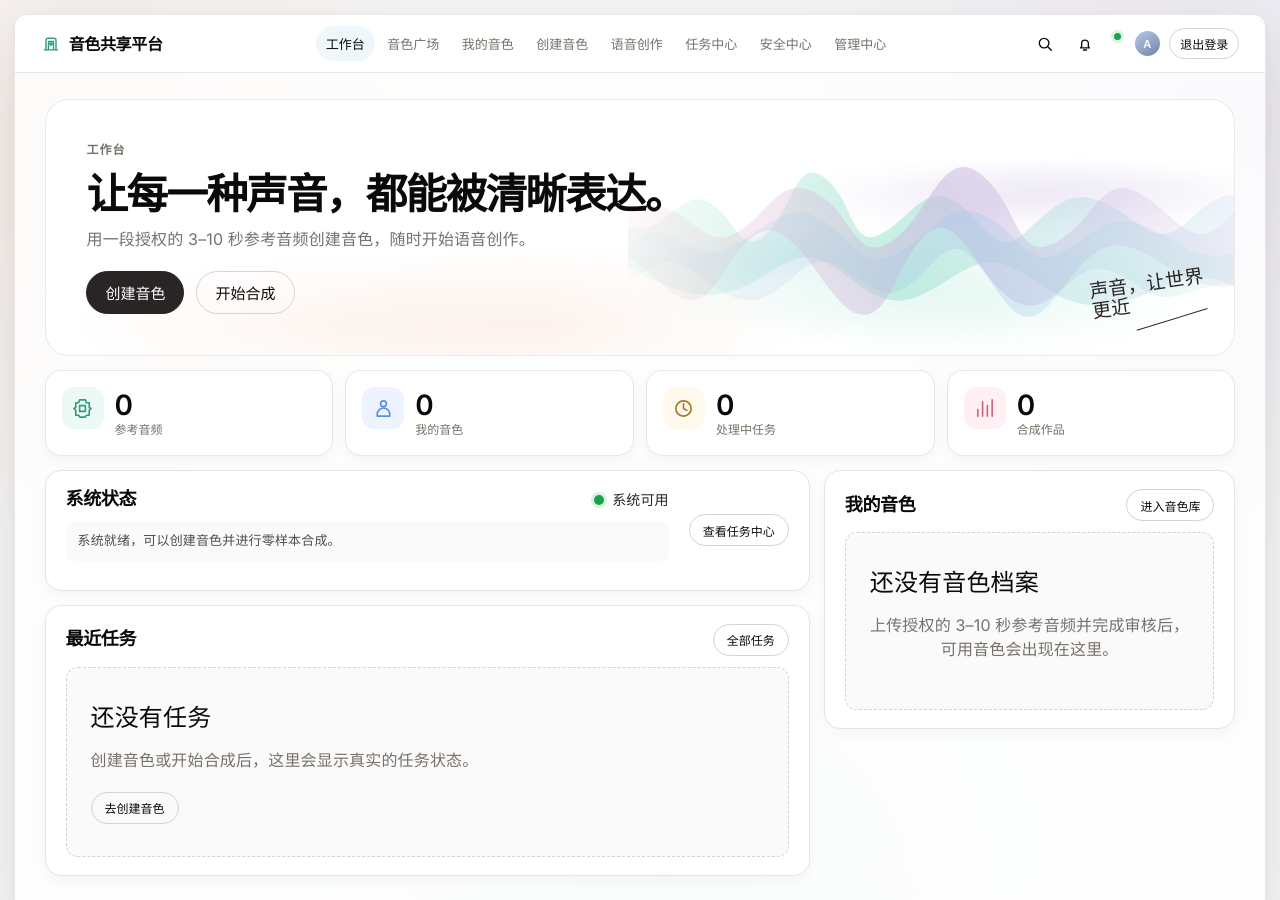
Test: UserVisibleCopy 全局用户可见文案契约 › keeps the admin workspace free of implementation wording
Step 1. Click the button "管理中心" → (860, 44), box top-left (824, 26), bottom-right (896, 61)
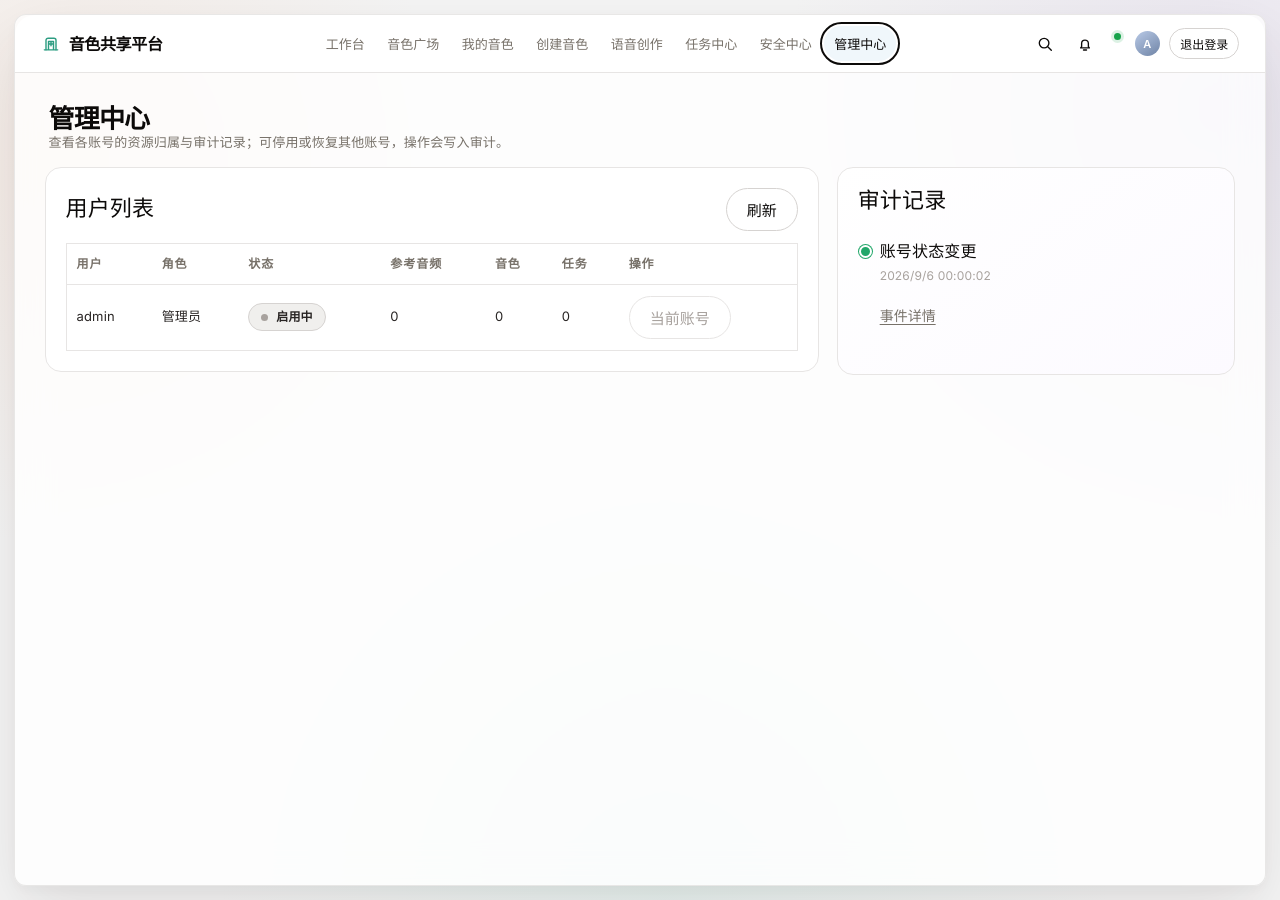
Expected: the table named "用户列表" is shown, top-left (66, 242), bottom-right (798, 350)
